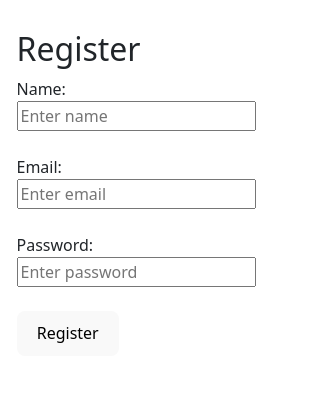
Test: Register component › Should show error message, when all or any field empty!
# Using userEvent, It will try to process click event on this button
Click the button "Register": (68, 333) x1=16 y1=311 x2=119 y2=356
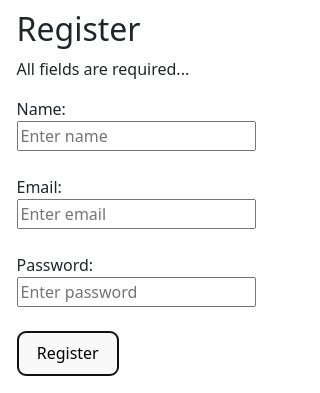
Now the text "All fields are required..." is shown, box x1=16 y1=58 x2=189 y2=80
